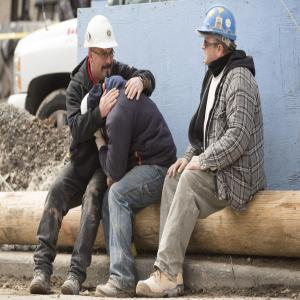blue: (204, 9, 236, 67)
white: (86, 17, 116, 78)
